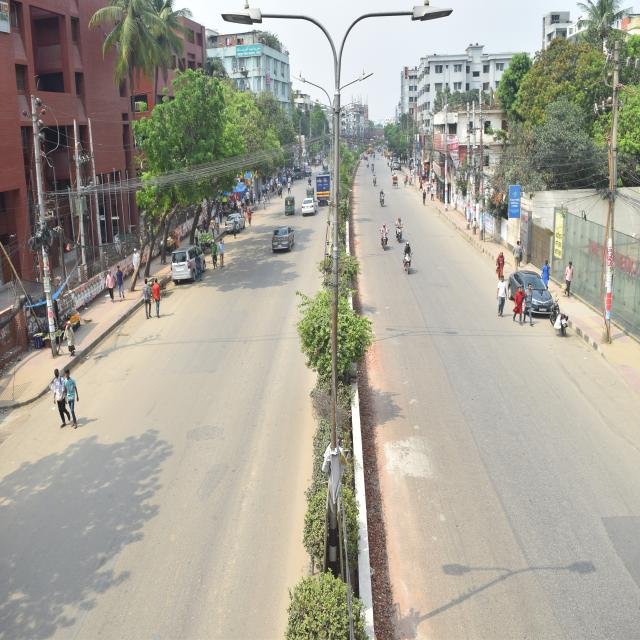car: (506, 269, 559, 319), (270, 218, 300, 255), (226, 210, 244, 236), (302, 191, 318, 216), (292, 162, 302, 183), (304, 158, 310, 174)
microbus: (158, 237, 244, 286)
motorbike: (402, 240, 416, 276), (395, 216, 406, 243), (379, 222, 390, 248), (379, 185, 386, 208), (373, 170, 380, 193), (366, 158, 370, 172)
pickup-van: (315, 174, 336, 206)
